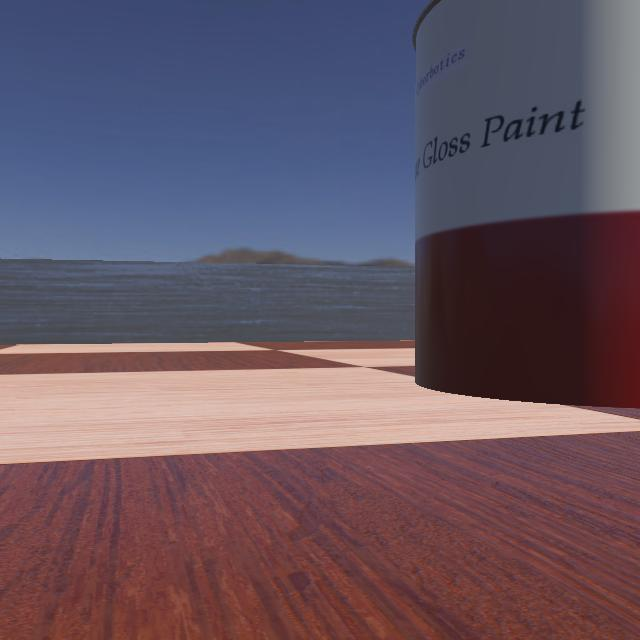paint-bucket: (385, 1, 639, 416)
